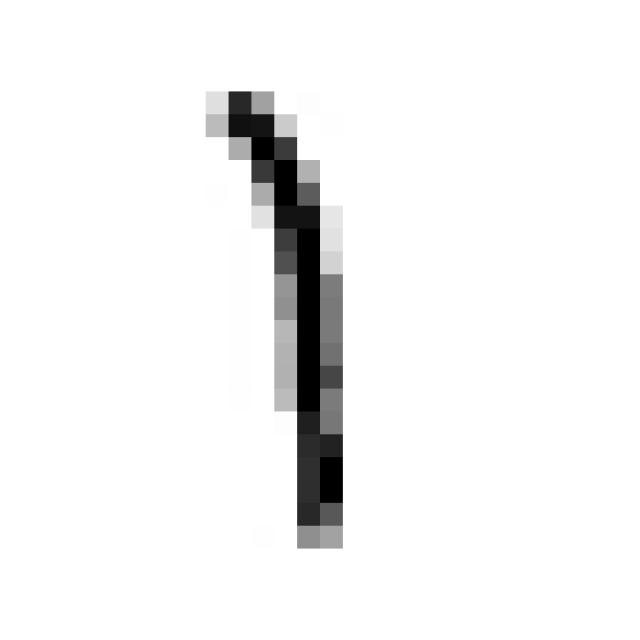1 -one-: (196, 68, 366, 566)
